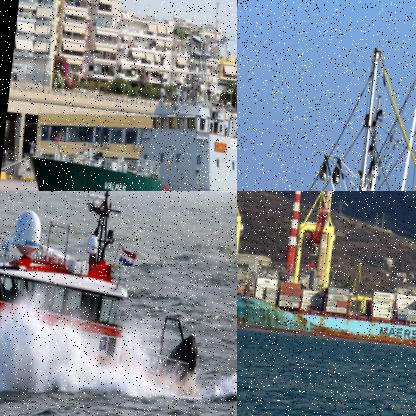Fishing Boat: (247, 35, 415, 190)
Merchant Ship: (237, 235, 415, 364)
Patrol Boat: (0, 191, 220, 413), (18, 15, 236, 190)
